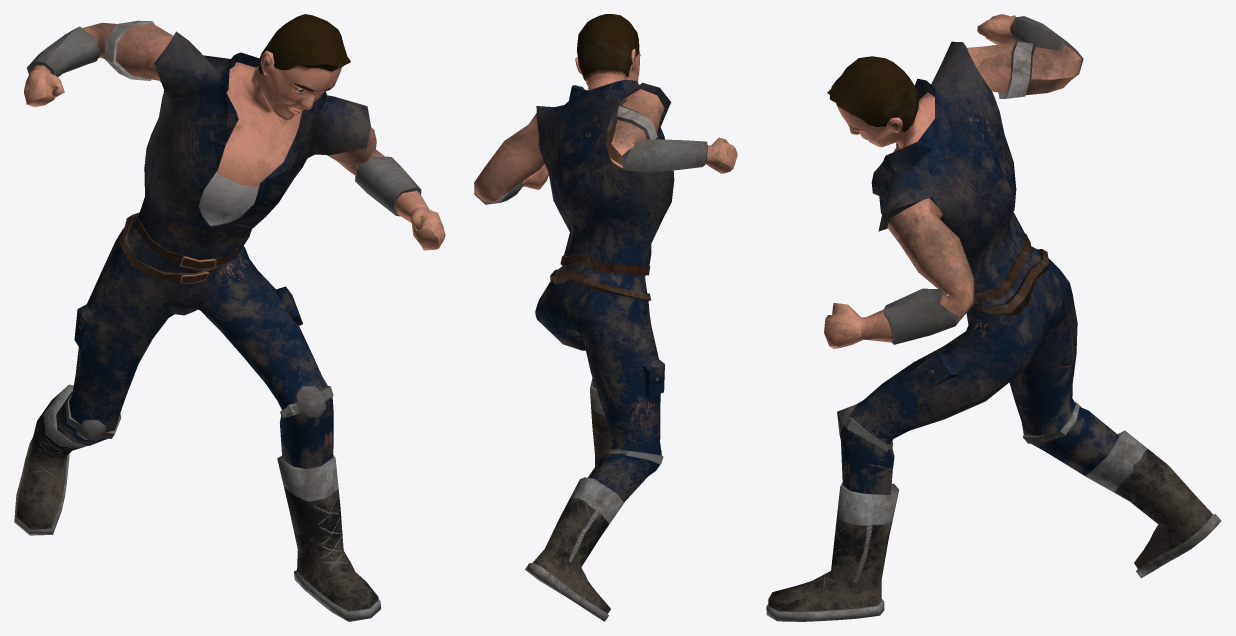
Rendered from Anim_especial_jugador.0026.obj.
3 renders of one model, left to right at view 1: azimuth 30°, elevation 25°; view 2: azimuth 150°, elevation 25°; view 3: azimuth 270°, elevation 25°, orthographic. The views are drawn at different scales.
Parts seen in each view (by area): view 1: polySurface1; view 2: polySurface1; view 3: polySurface1.
Boxes of the visible parts, x1,y1,x2,y2 form: polySurface1: (14,14,445,621); polySurface1: (474,14,737,621); polySurface1: (766,14,1221,621).
Bounding box in the file's own units: 5.17 × 8.52 × 6.11.
